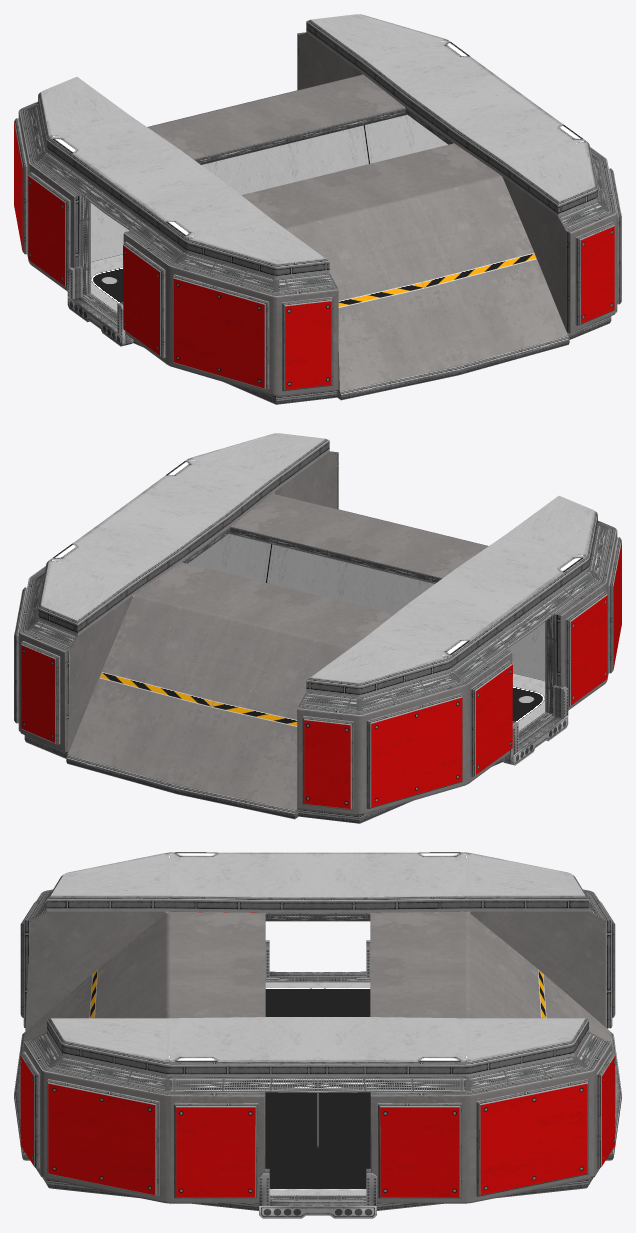
The model's file is SM_BuilderStructure_Bunker.fbx.
3 renders of one model, top to bottom at view 1: azimuth 30°, elevation 25°; view 2: azimuth 150°, elevation 25°; view 3: azimuth 270°, elevation 25°, orthographic. The views are drawn at different scales.
Visible parts, largest first — view 1: SM_Bunker; view 2: SM_Bunker; view 3: SM_Bunker.
Part boxes in pixels (x1,y1,x2,y2): SM_Bunker: (14, 14, 621, 404); SM_Bunker: (14, 433, 621, 823); SM_Bunker: (14, 852, 621, 1218).
Size of what is drawn, in the model's own units: 1609 by 1756 by 462.
